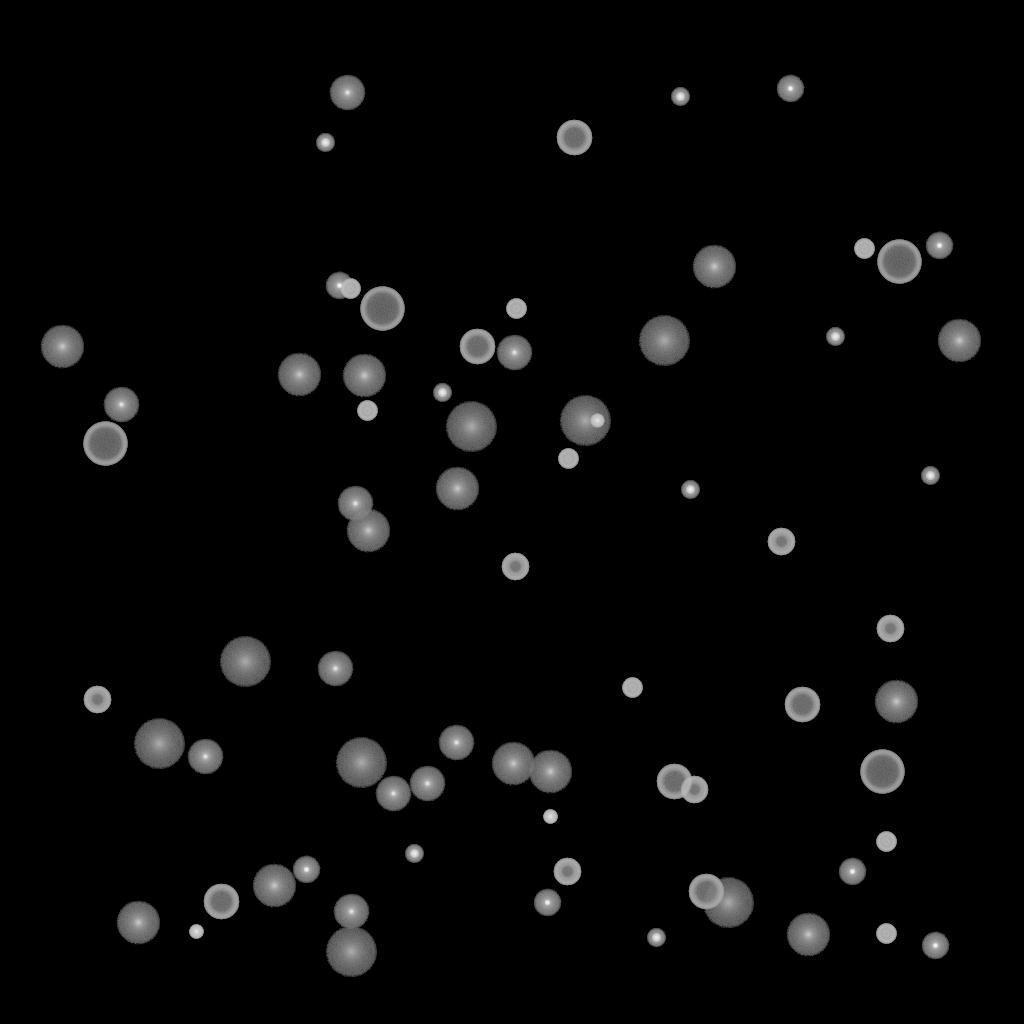depth:-10: (292, 856, 320, 884), (776, 75, 804, 103), (921, 932, 949, 960), (533, 889, 561, 917), (838, 858, 866, 886), (325, 272, 353, 300), (925, 232, 953, 260)
depth:-20: (405, 845, 423, 863), (921, 467, 939, 485), (647, 929, 665, 947), (681, 481, 699, 499), (433, 384, 451, 402), (671, 88, 689, 106), (316, 134, 334, 152), (826, 328, 844, 346)
depth:-30: (590, 414, 604, 428), (189, 925, 203, 939), (543, 810, 557, 824)
depth:-40: (854, 239, 874, 259), (357, 401, 377, 421), (876, 832, 896, 852), (340, 279, 360, 299), (506, 299, 526, 319), (876, 924, 896, 944), (558, 449, 578, 469), (622, 678, 642, 698)
depth:-50: (553, 858, 581, 886), (680, 776, 708, 804), (83, 686, 111, 714), (767, 528, 795, 556), (876, 615, 904, 643), (501, 553, 529, 581)
depth:-60: (784, 687, 820, 723), (203, 884, 239, 920), (656, 764, 692, 800), (556, 120, 592, 156), (459, 329, 495, 365), (688, 874, 724, 910)
depth:-70: (360, 287, 404, 331), (83, 422, 127, 466), (860, 750, 904, 794), (877, 240, 921, 284)
depth:0: (496, 335, 532, 371), (438, 725, 474, 761), (329, 75, 365, 111), (187, 739, 223, 775), (317, 651, 353, 687), (103, 387, 139, 423), (375, 776, 411, 812), (337, 486, 373, 522), (333, 894, 369, 930), (409, 766, 445, 802)
depth:10: (435, 467, 479, 511), (491, 742, 535, 786), (528, 750, 572, 794), (874, 680, 918, 724), (116, 901, 160, 945), (252, 864, 296, 908), (342, 354, 386, 398), (277, 353, 321, 397), (937, 319, 981, 363), (346, 509, 390, 553), (692, 245, 736, 289), (40, 325, 84, 369), (786, 913, 830, 957)
depth:20: (638, 316, 690, 366), (335, 738, 387, 788), (133, 719, 185, 769), (325, 927, 377, 977), (559, 396, 611, 446), (702, 878, 754, 928), (445, 402, 497, 452), (219, 637, 271, 687)
